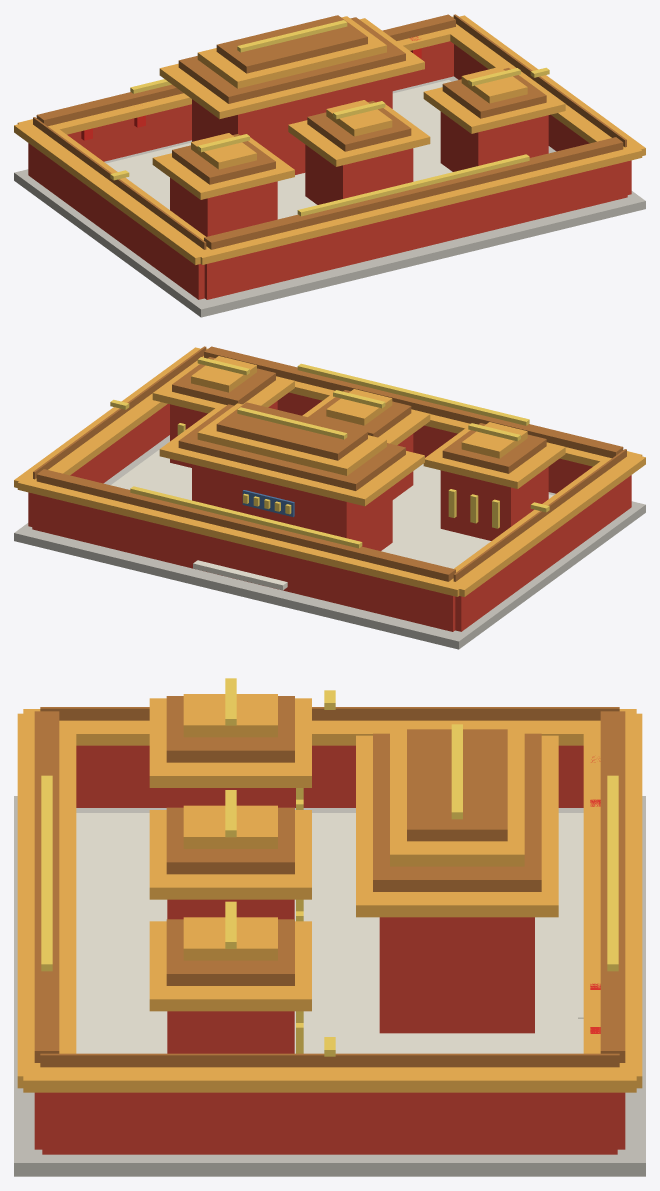
File: voxel-beijing-palace-courtyard.gltf
3 views of the same model, one above another, from view 1: azimuth 30°, elevation 25°; view 2: azimuth 150°, elevation 25°; view 3: azimuth 270°, elevation 25° (orthographic). The views are drawn at different scales.
Size of the model in its own units: 9.32 by 2.63 by 6.7.
